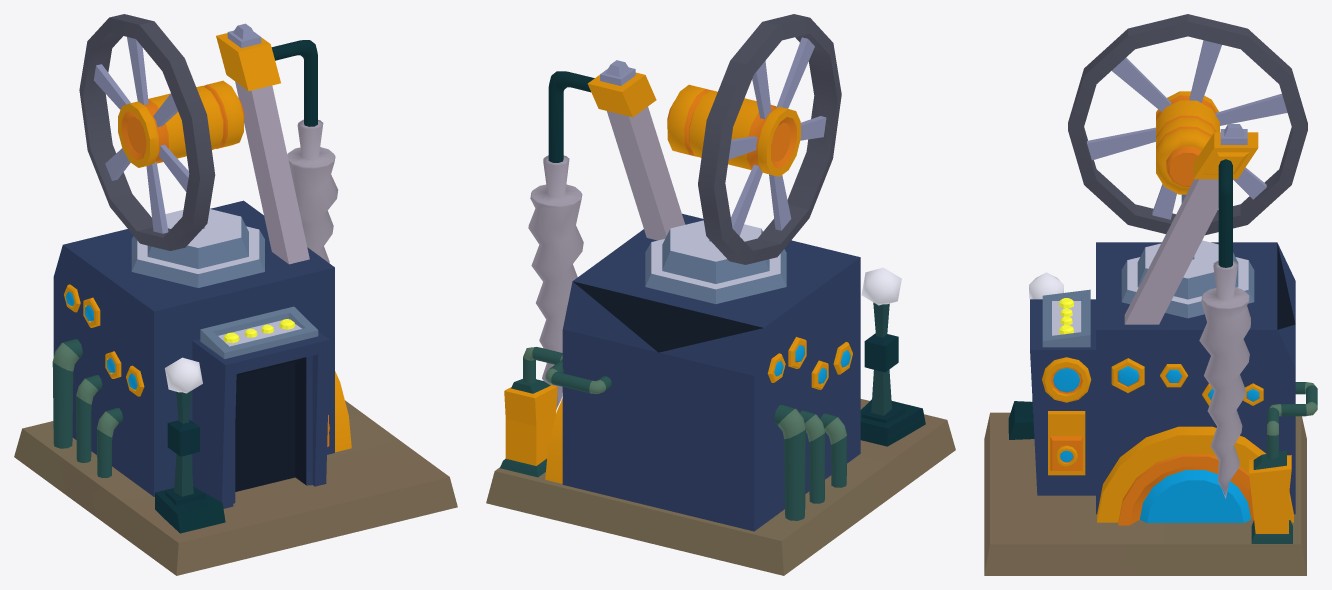
File: iIyE2f6pEk.glb
3 renders of one model, left to right at view 1: azimuth 30°, elevation 25°; view 2: azimuth 150°, elevation 25°; view 3: azimuth 270°, elevation 25°, orthographic. The views are drawn at different scales.
Visible parts, largest first — view 1: ElectriMinner.001; view 2: ElectriMinner.001; view 3: ElectriMinner.001.
Boxes of the visible parts, x1,y1,x2,y2 form: ElectriMinner.001: (14, 14, 457, 575); ElectriMinner.001: (486, 14, 955, 575); ElectriMinner.001: (984, 14, 1317, 575).
Bounding box in the file's own units: 2 × 3.12 × 2.07.
Materials: 1 (1 with a texture image).
